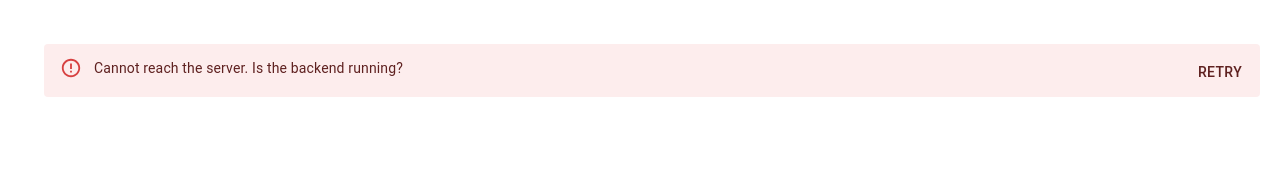
Test case: CurrentUserProvider + UserPicker › shows the error and lets the user retry when the API is down
The image size is (1277, 172).
Expected: the text "Cannot reach the server. Is the backend running?" is shown, [94,60,403,76]
Click the button "Retry": (1220, 72) [1188,54,1252,90]
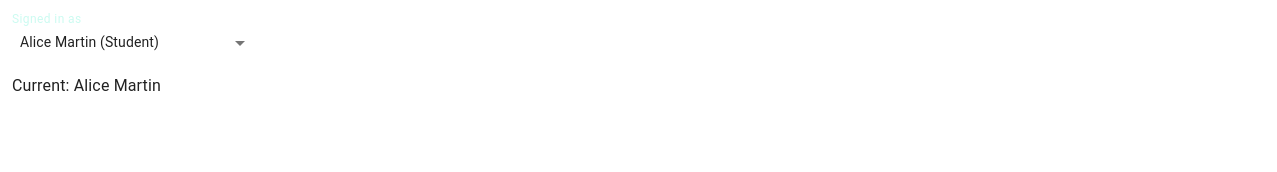
Expected: the text "Current: Alice Martin" is shown, [12,76,161,94]
